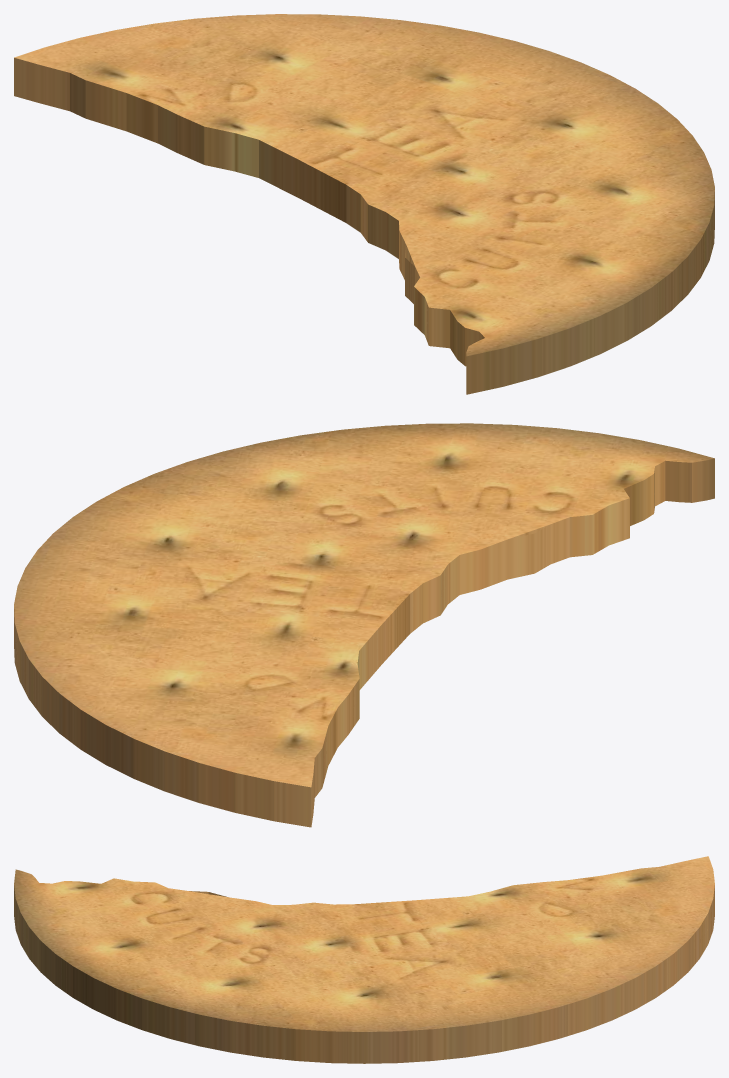
The model's file is biscuit.fbx.
3 renders of one model, top to bottom at view 1: azimuth 30°, elevation 25°; view 2: azimuth 150°, elevation 25°; view 3: azimuth 270°, elevation 25°, orthographic. The views are drawn at different scales.
Visible parts, largest first — view 1: Cylinder; view 2: Cylinder; view 3: Cylinder.
Boxes of the visible parts, left/top/right/bottom form: Cylinder: left=14, top=14, right=714, bottom=394; Cylinder: left=14, top=423, right=714, bottom=827; Cylinder: left=14, top=856, right=714, bottom=1063.
Bounding box in the file's own units: 10 × 0.5 × 5.94.
